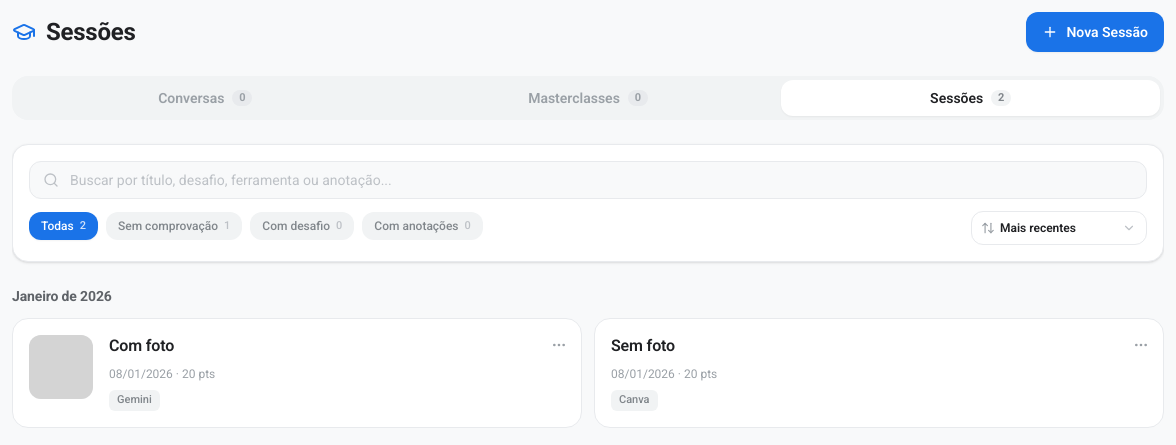
Test: SessionsModule › filters by a tool when its chip is clicked, and by records without proof
What coordinates should you click on to do the following:
click the button "Gemini"
I would click on:
 (134, 400)
Its box is top-left (109, 390), bottom-right (160, 410).
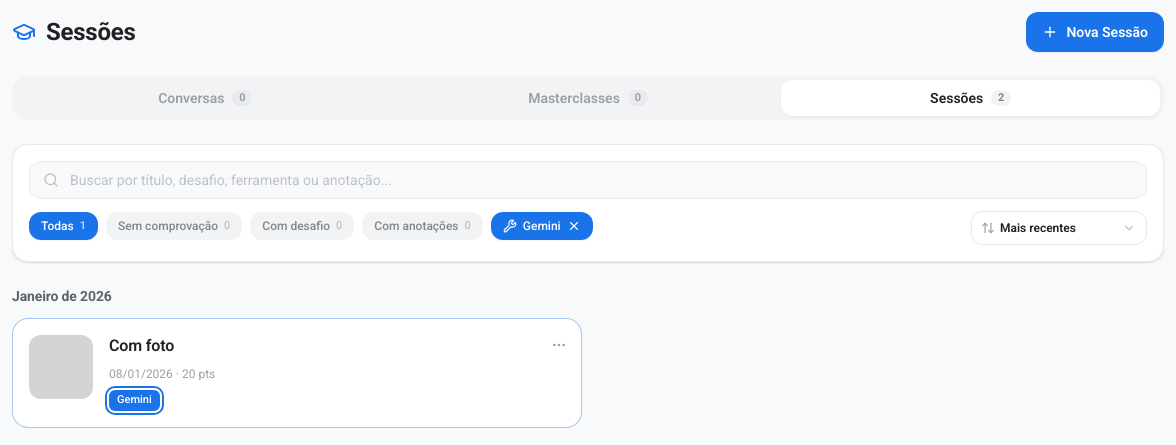
Now the button "Sem foto" is gone
What coordinates should you click on to do the following:
click the button with aria-label "Remover filtro de ferramenta Gemini"
I would click on:
 (542, 226)
Its box is top-left (491, 212), bottom-right (593, 240).
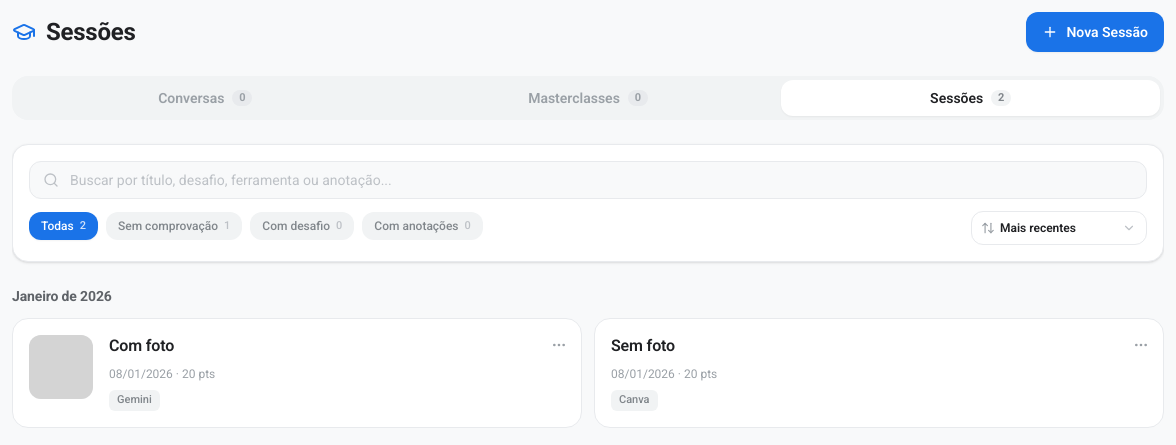
Now the button "Sem foto" is shown, box top-left (611, 335), bottom-right (675, 357)
What coordinates should you click on to do the following:
click the button "Sem comprovação 1"
I would click on:
 (174, 226)
Its box is top-left (106, 212), bottom-right (242, 240).
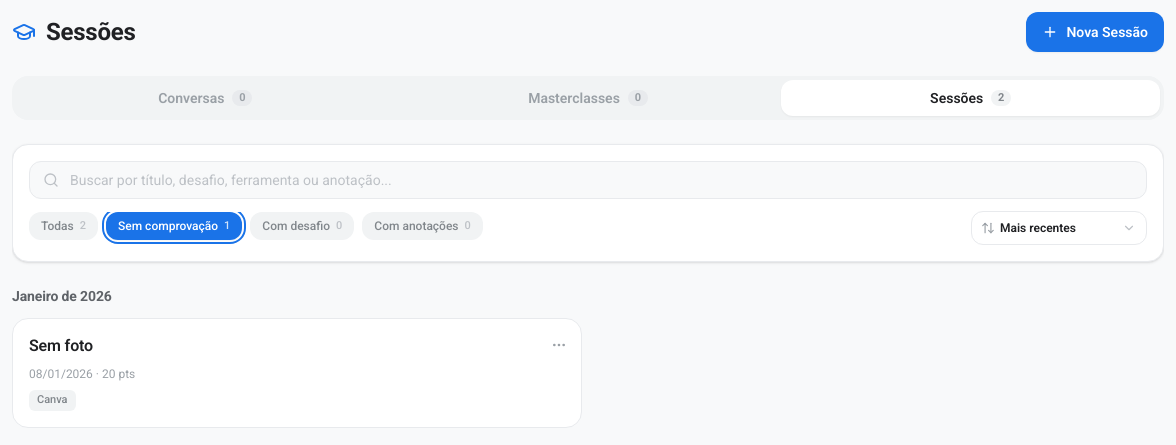
Now the button "Sem foto" is shown, box top-left (29, 335), bottom-right (93, 357)
Now the button "Com foto" is gone
